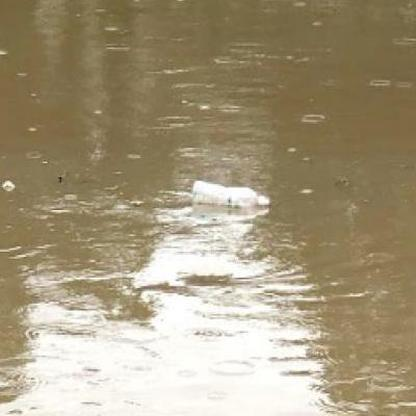plastic bottle: (192, 180, 269, 209)
